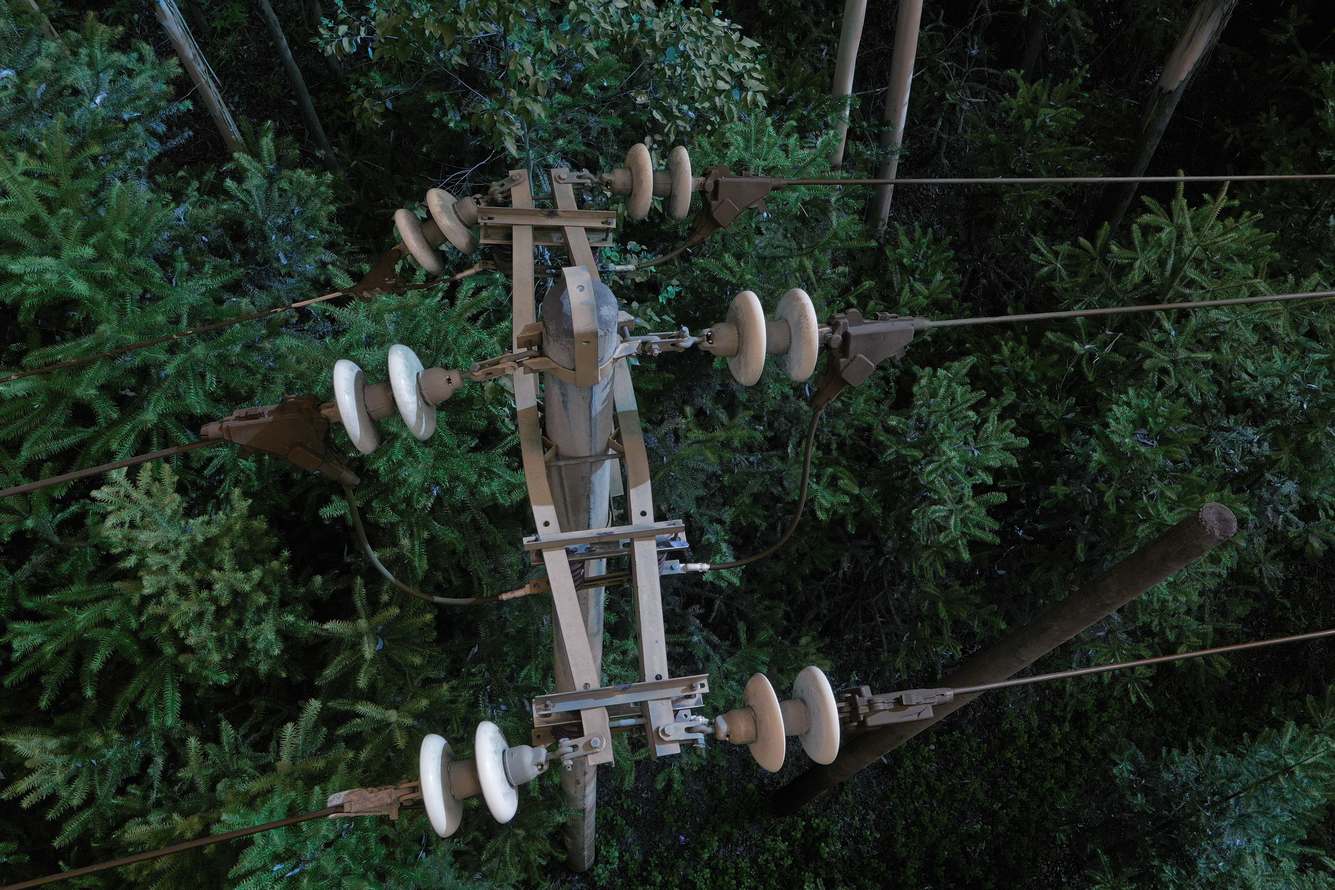severe_soiling_no_discharge_whole: (414, 718, 548, 841), (332, 340, 465, 454), (710, 662, 842, 771), (694, 289, 822, 389), (394, 188, 485, 277), (599, 140, 693, 222)
